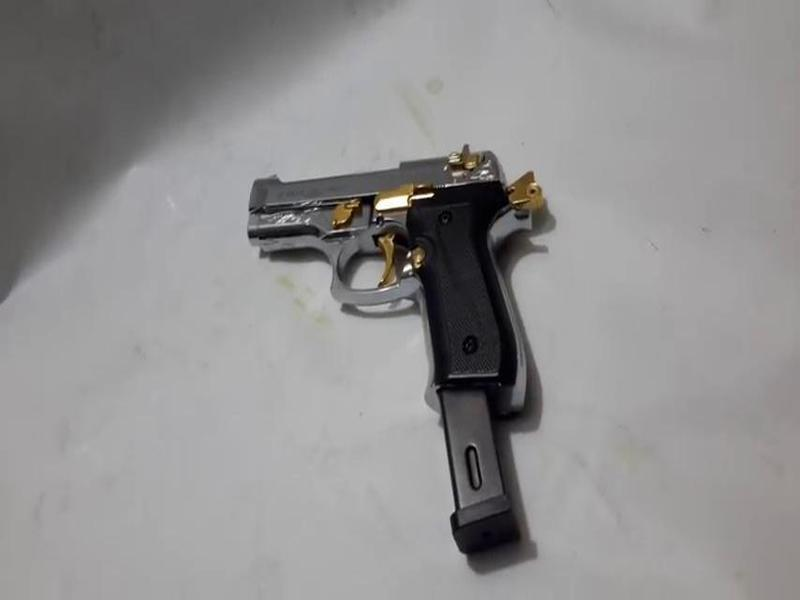Pistola: (218, 125, 592, 410)
